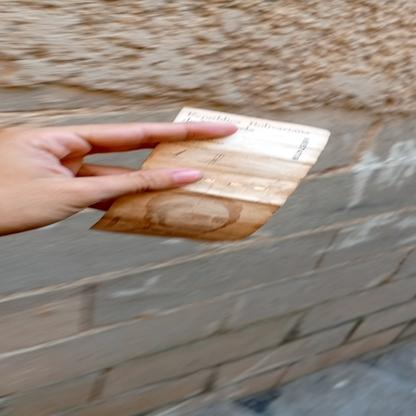five-front-vef: (88, 104, 331, 241)
